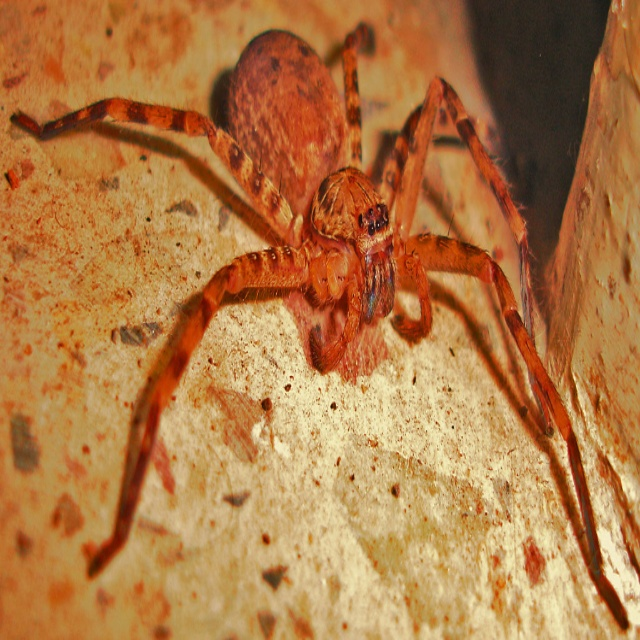Spider: (9, 23, 630, 631)
